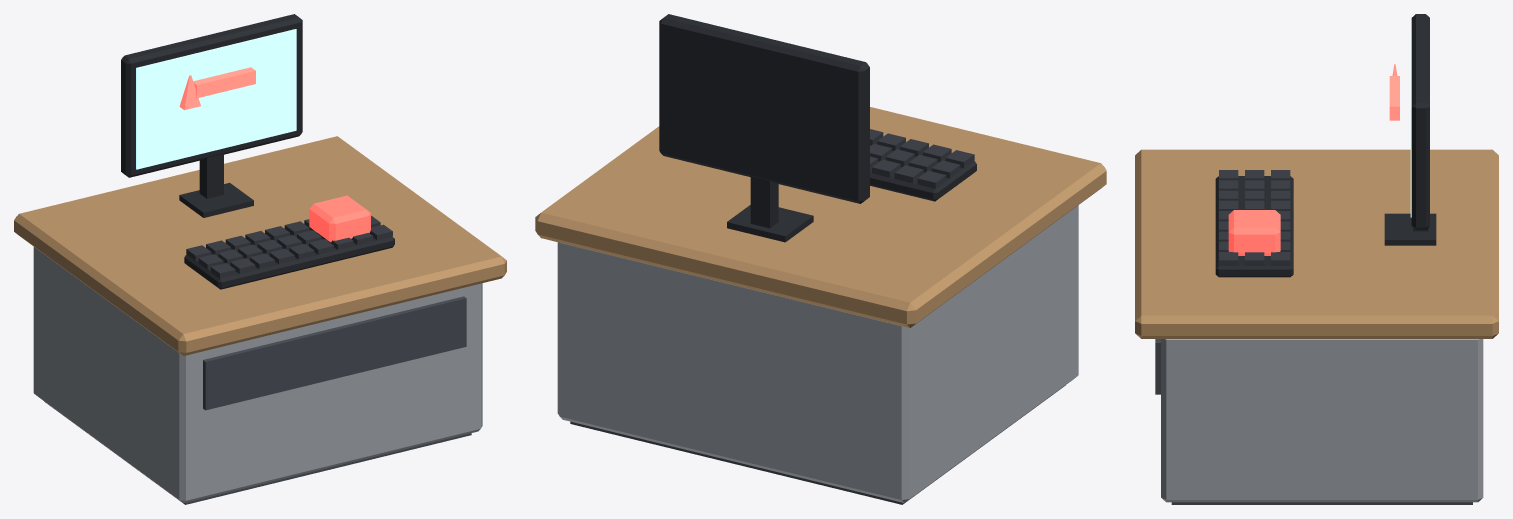
The model's file is keyboardsmash_p0_3.glb.
3 views of the same model, side by side, from view 1: azimuth 30°, elevation 25°; view 2: azimuth 150°, elevation 25°; view 3: azimuth 270°, elevation 25° (orthographic). The views are drawn at different scales.
Parts seen in each view (by area): view 1: keyboardsmash_p0_3_mesh_Desk, keyboardsmash_p0_3_mesh; view 2: keyboardsmash_p0_3_mesh_Desk, keyboardsmash_p0_3_mesh; view 3: keyboardsmash_p0_3_mesh_Desk, keyboardsmash_p0_3_mesh.
Boxes of the visible parts, bbox=[...] form: keyboardsmash_p0_3_mesh_Desk: bbox=[14, 136, 506, 504]; keyboardsmash_p0_3_mesh: bbox=[121, 14, 394, 289]; keyboardsmash_p0_3_mesh_Desk: bbox=[535, 107, 1106, 504]; keyboardsmash_p0_3_mesh: bbox=[659, 14, 976, 242]; keyboardsmash_p0_3_mesh_Desk: bbox=[1135, 149, 1498, 504]; keyboardsmash_p0_3_mesh: bbox=[1215, 14, 1436, 277].
Bounding box in the file's own units: 0.78 × 0.79 × 0.7.
